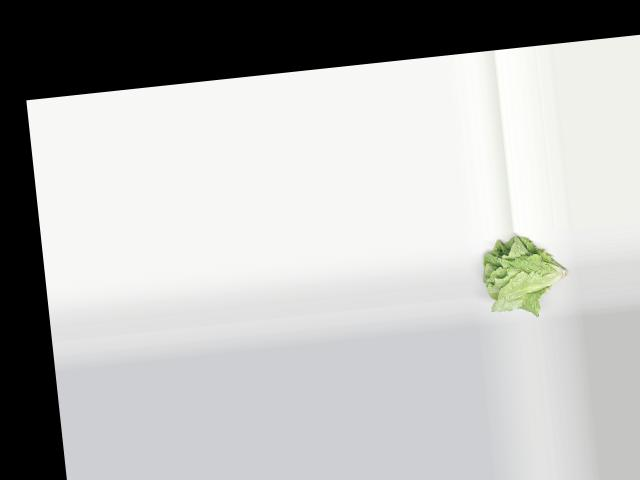lettuce: (474, 231, 574, 314)
